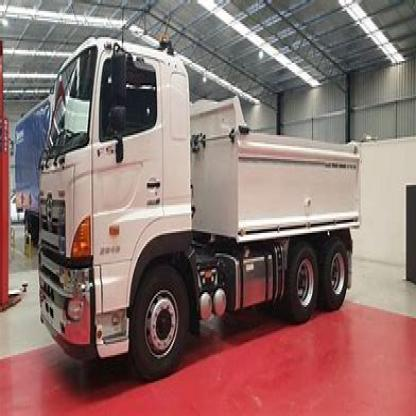dump_truck: (35, 30, 365, 379)
